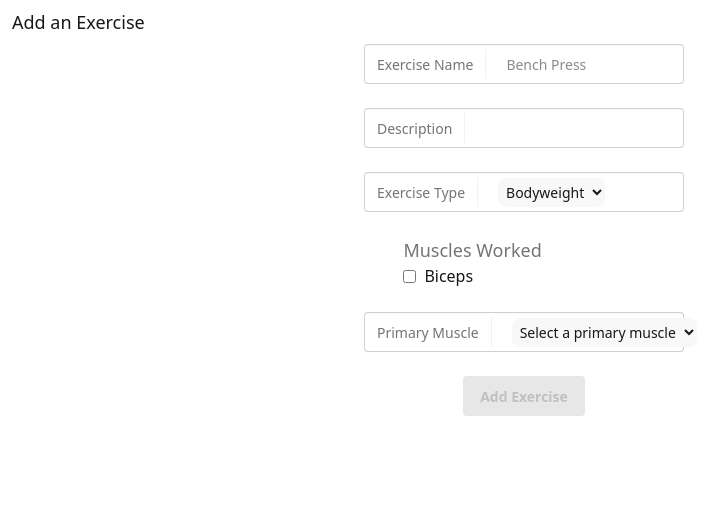
Test: exercise form › requires a selected worked muscle and submits the complete exercise
Expected: the button "Add Exercise" is disabled, 463,376 -> 585,416
In the field with placeholder "Bench Press": (589, 64) 506,45 -> 671,83, type "Curl"
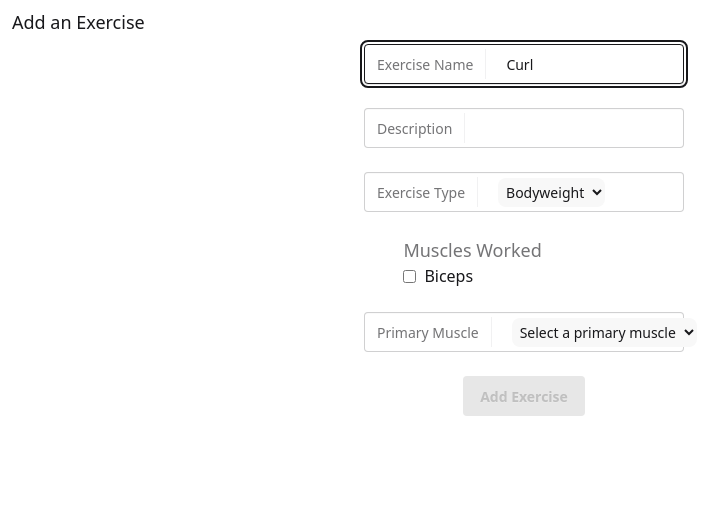
Click the checkbox labelled "Biceps": (410, 276) 403,270 -> 416,282
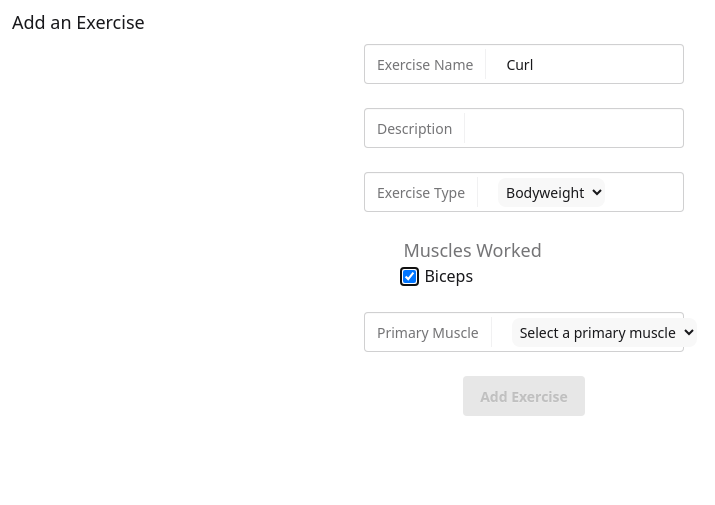
Select "Biceps" in the dropdown labelled "Primary Muscle": (604, 332) 512,318 -> 697,346
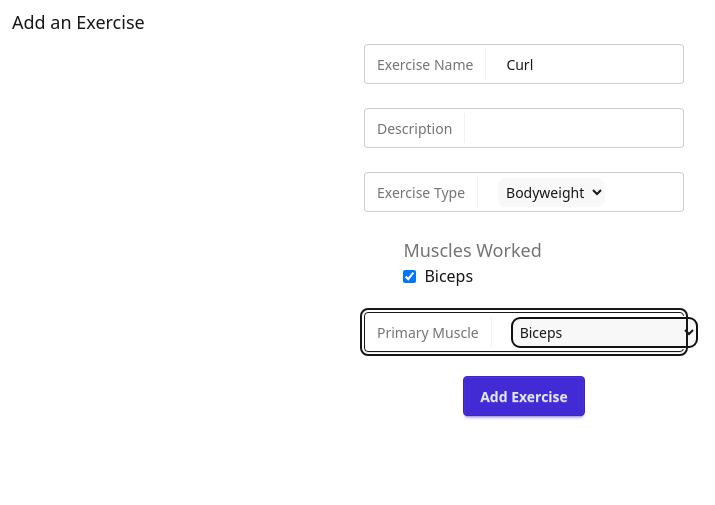
Click the button "Add Exercise": (524, 396) 463,376 -> 585,416
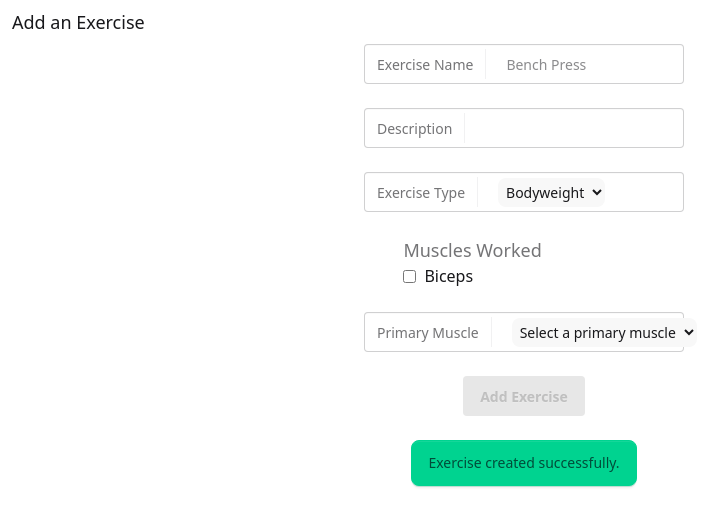
Expected: the message reads "Exercise created successfully.", 428,453 -> 620,472
